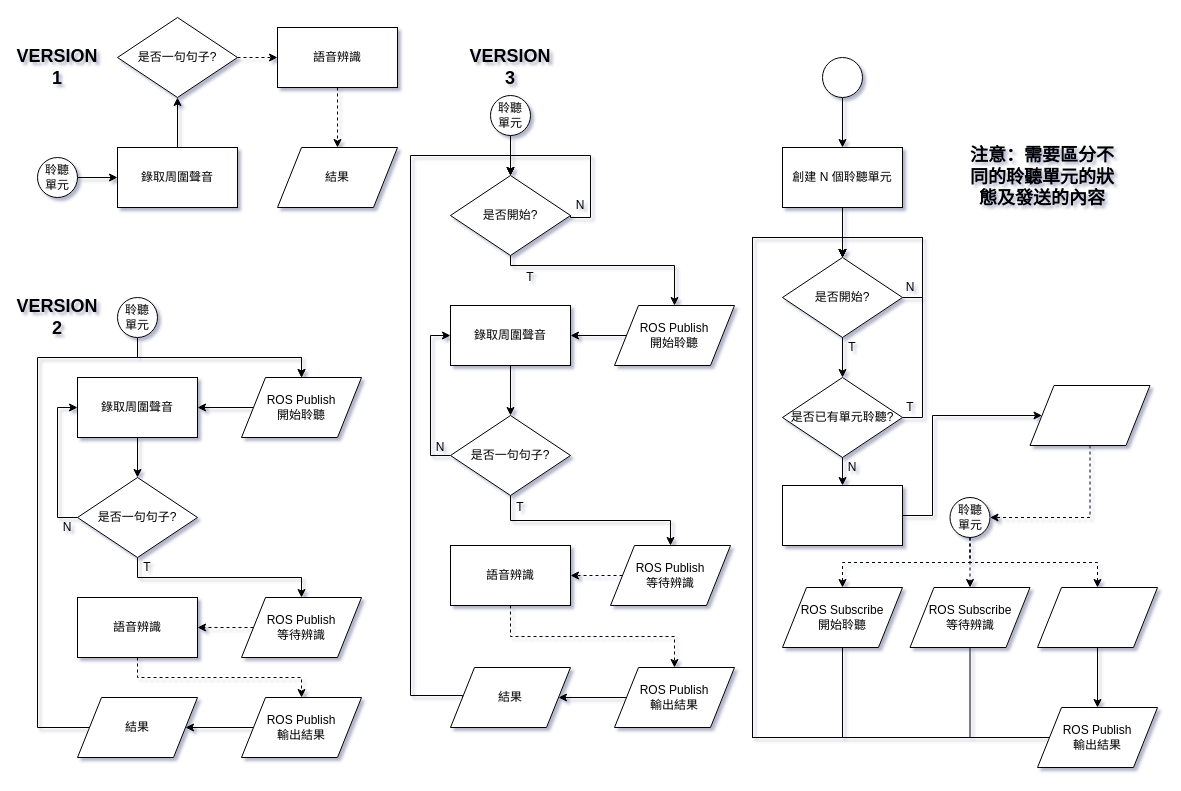
Image size: 1181x791. Some labels were removed from this diagram. The box of each missing label's shape, as (x1, y1, x2, y2) in pixels:
ROS Publish 該單元開始: (1029, 384, 1150, 446)
ROS Subscribe 輸出結果: (1036, 586, 1158, 648)
尋找閒置的聆聽單元: (782, 484, 902, 546)
聆聽 代理: (822, 56, 862, 98)
